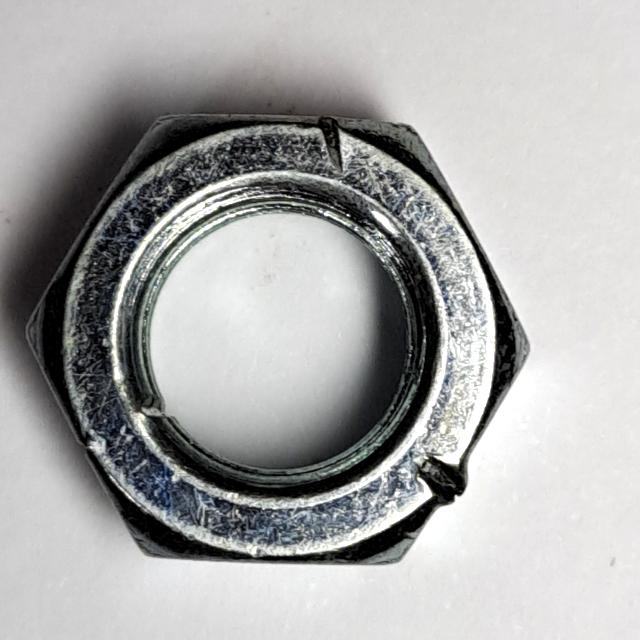Scratches: (15, 96, 543, 579)
